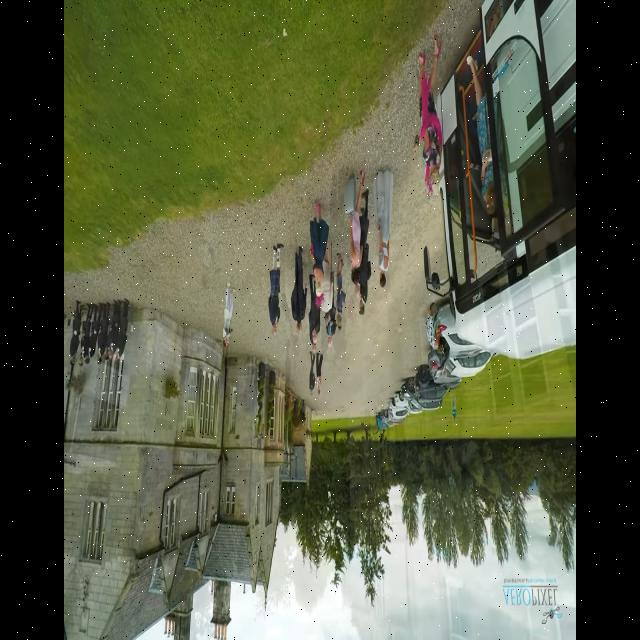humans: (415, 37, 442, 201), (374, 165, 399, 290), (290, 245, 308, 338), (312, 200, 328, 299), (269, 240, 284, 339), (222, 278, 235, 354), (113, 301, 127, 371), (96, 309, 108, 369), (71, 303, 81, 370), (84, 308, 94, 370), (306, 350, 316, 404), (316, 351, 324, 401)
